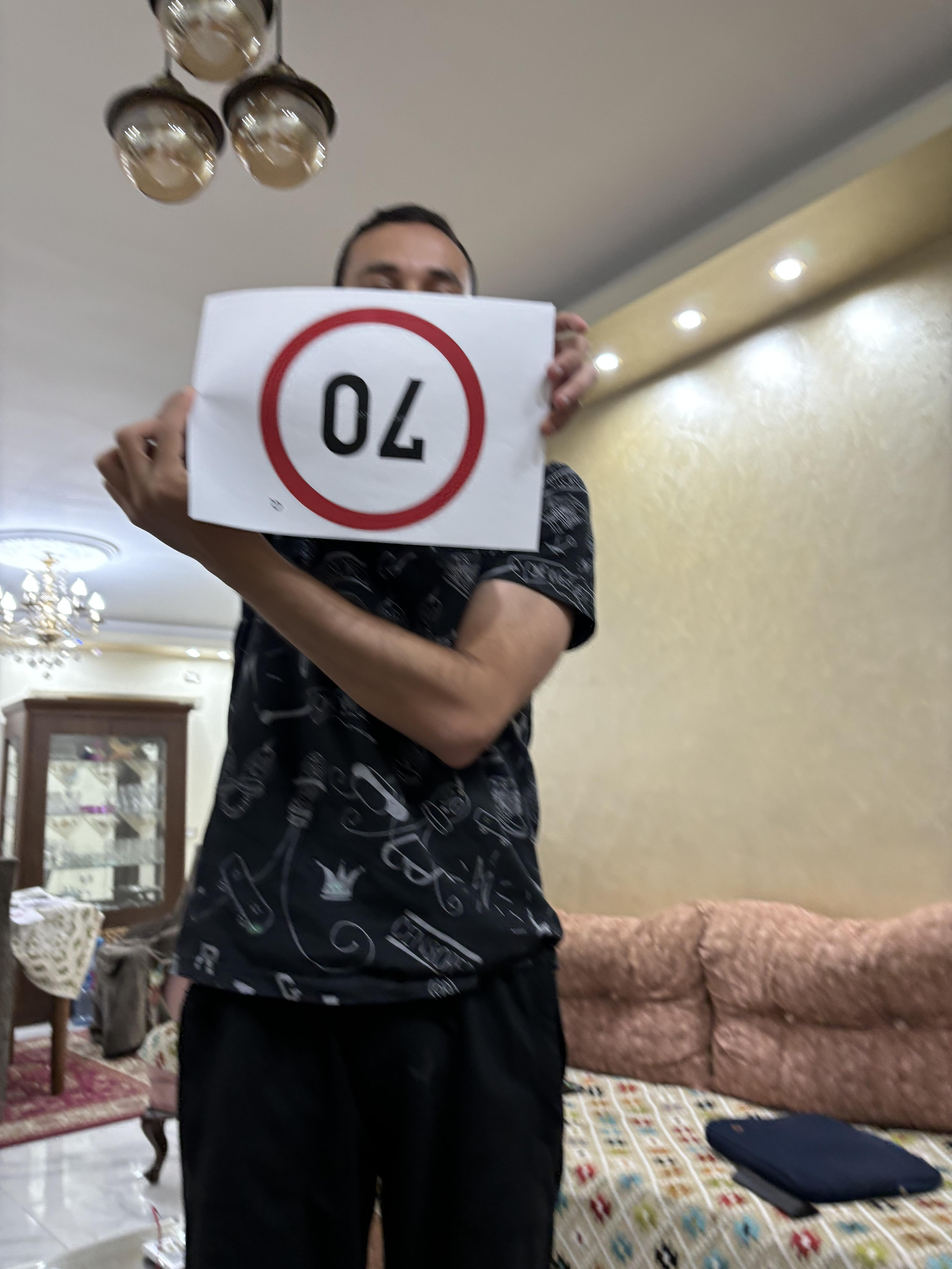70-Speed: (245, 296, 490, 536)
